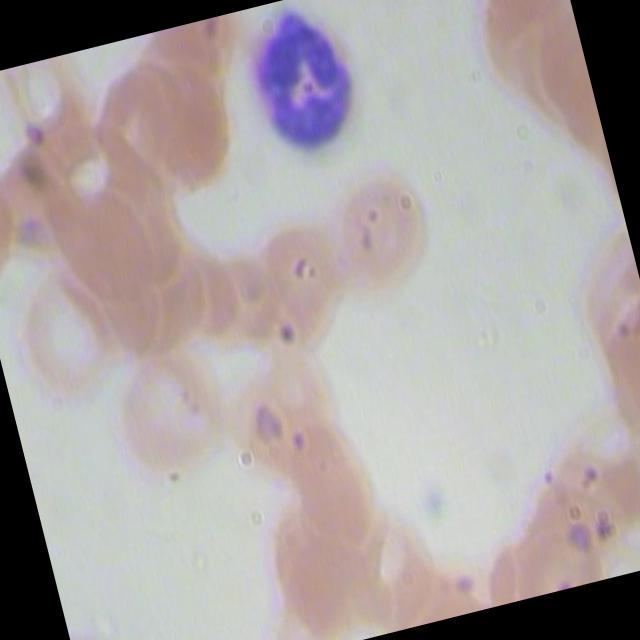RBC: (120, 51, 258, 204), (313, 154, 450, 307), (233, 197, 370, 350), (104, 328, 241, 481), (261, 396, 398, 549), (215, 338, 352, 490), (32, 160, 169, 312), (248, 491, 385, 640), (0, 255, 128, 408)
WBC: (223, 0, 387, 162)
